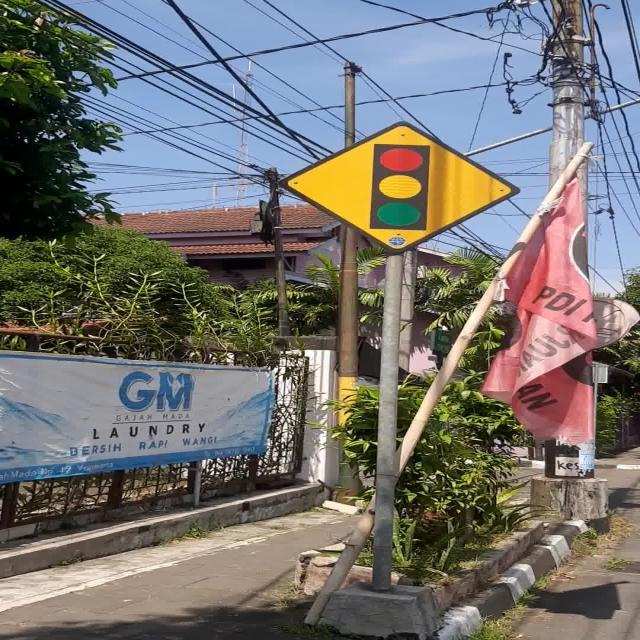Lampu Lalu Lintas: (278, 120, 521, 254)
